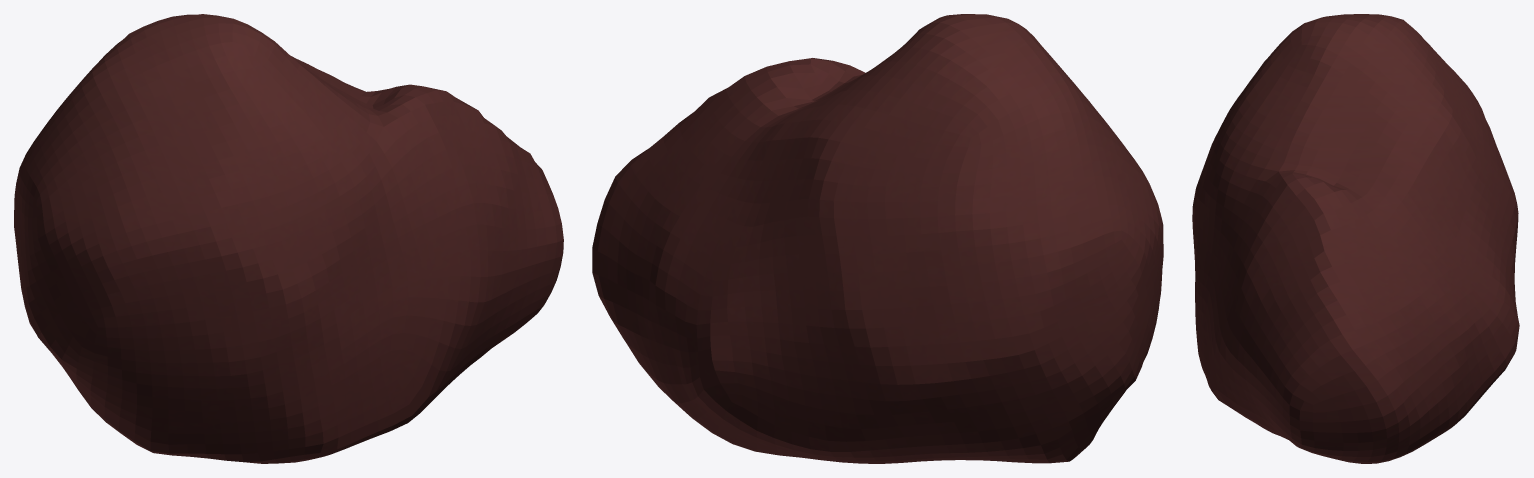
The model's file is Rock8_Textured.fbx.
3 renders of one model, left to right at view 1: azimuth 30°, elevation 25°; view 2: azimuth 150°, elevation 25°; view 3: azimuth 270°, elevation 25°, orthographic. The views are drawn at different scales.
Visible parts, largest first — view 1: GameJam_Rock2_ModelZbrush:Group52277; view 2: GameJam_Rock2_ModelZbrush:Group52277; view 3: GameJam_Rock2_ModelZbrush:Group52277.
Part boxes in pixels (x1,y1,x2,y2): GameJam_Rock2_ModelZbrush:Group52277: (14, 14, 563, 463); GameJam_Rock2_ModelZbrush:Group52277: (592, 14, 1163, 463); GameJam_Rock2_ModelZbrush:Group52277: (1192, 14, 1519, 463).
Bounding box in the file's own units: 1.82 × 1.42 × 1.19.
Materials: 1 (1 with a texture image).
